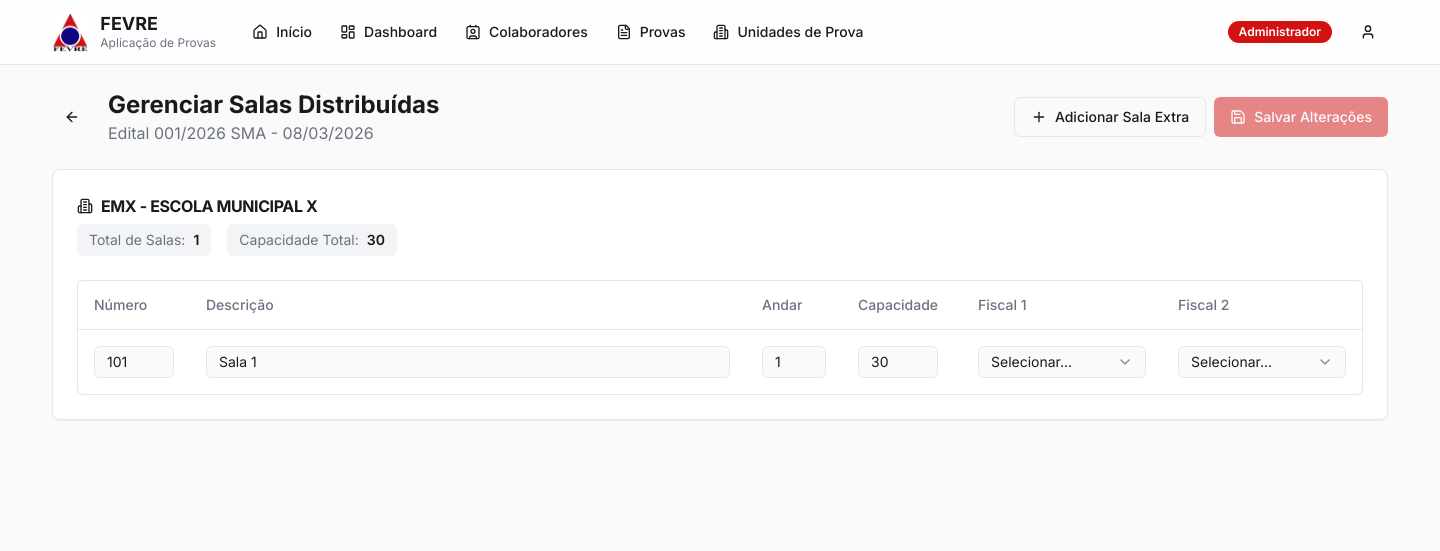
GerenciarSalasDistribuidas — refetch não apaga edição pendente › 🔴 dado MUDADO no servidor: a edição fica, e a tela AVISA
Replace the text in the field showing "Sala 1" with "MINHA EDIÇÃO". click: (468,362)
box: [206,346,730,378]
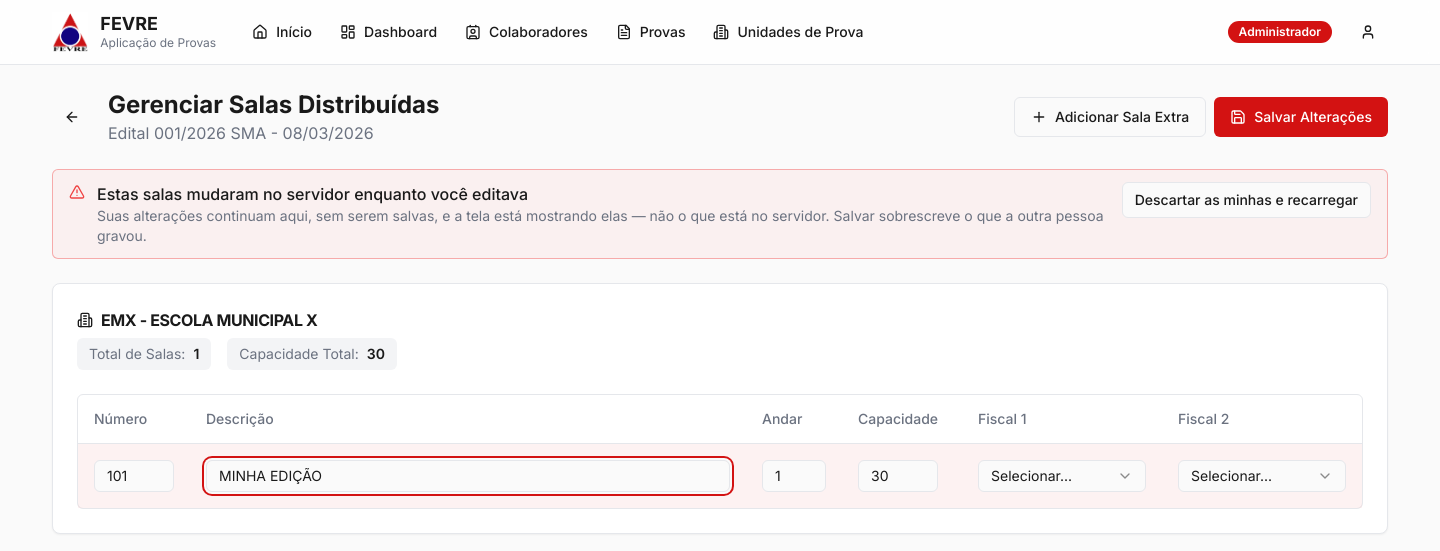
expect the text "Estas salas mudaram no servidor enquanto você editava" is shown: met, box [97,184,528,204]
